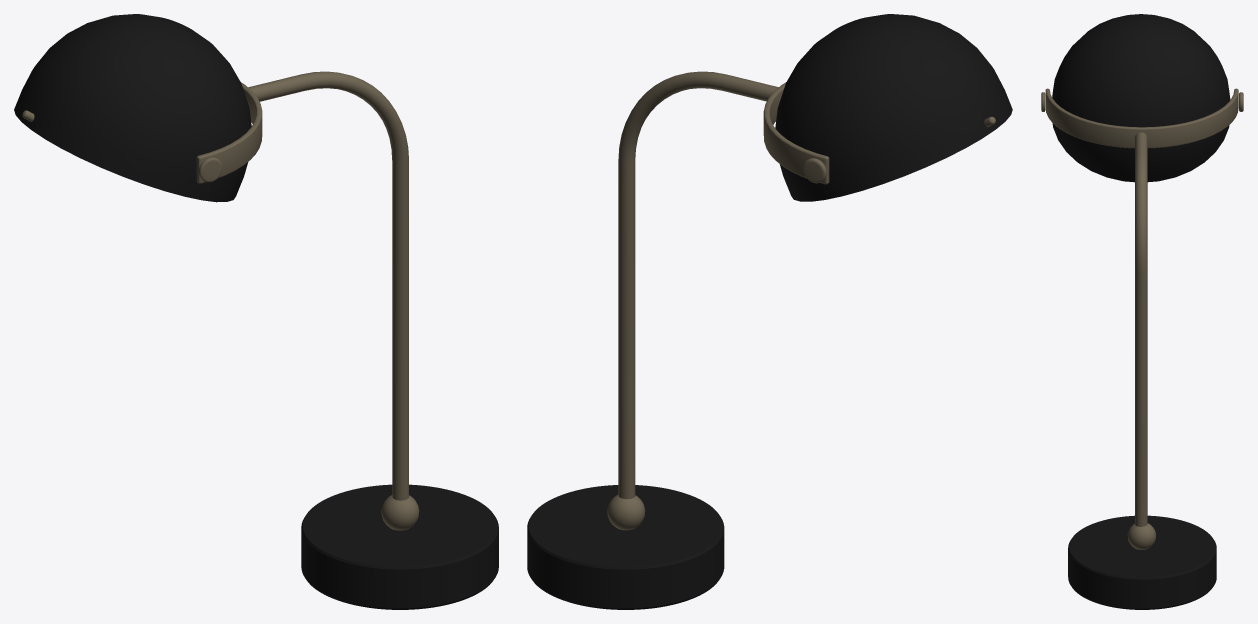
The model's file is CGT_Table_Lamp_46_001.glb.
The picture shows the model from 3 angles, left to right: view 1: azimuth 30°, elevation 25°; view 2: azimuth 150°, elevation 25°; view 3: azimuth 270°, elevation 25°; orthographic projection. The views are drawn at different scales.
Visible parts, largest first — view 1: CGT_Table_Lamp_46_001; view 2: CGT_Table_Lamp_46_001; view 3: CGT_Table_Lamp_46_001.
Part boxes in pixels (x1,y1,x2,y2): CGT_Table_Lamp_46_001: (14,14,498,609); CGT_Table_Lamp_46_001: (527,14,1012,609); CGT_Table_Lamp_46_001: (1041,14,1243,609).
Size of the model in its own units: 0.2389 by 0.303 by 0.1212.
